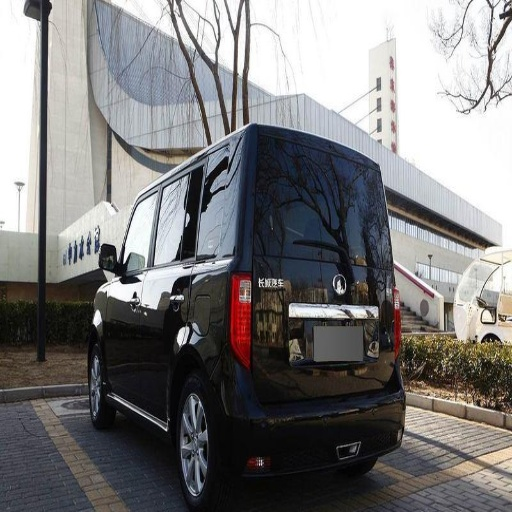back_bumper: (223, 380, 405, 477)
back_left_door: (143, 193, 186, 407)
back_left_light: (230, 266, 253, 369)
trunk: (253, 258, 394, 401), (176, 286, 219, 374)
